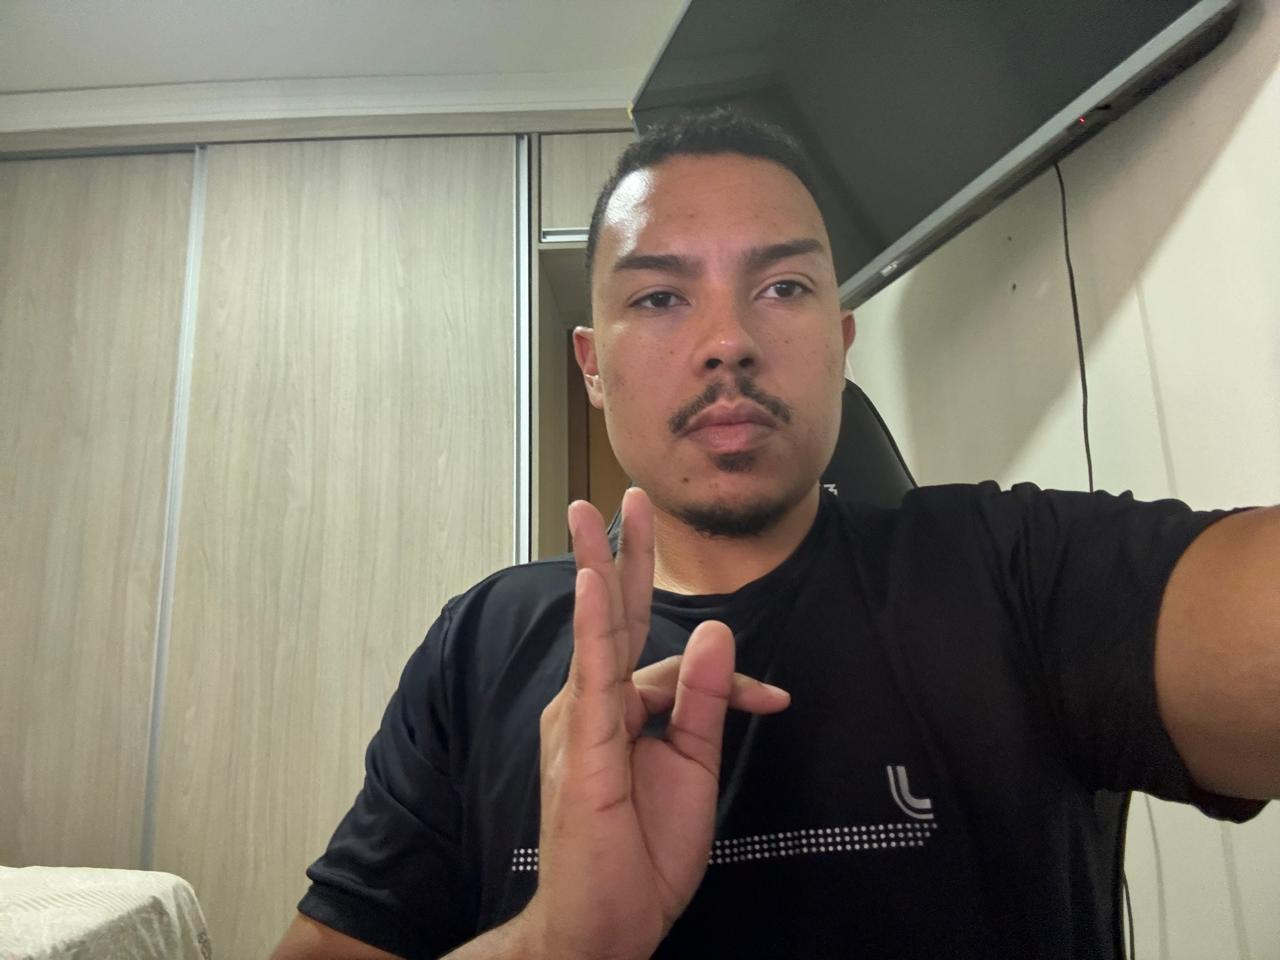t: (526, 485, 805, 960)
